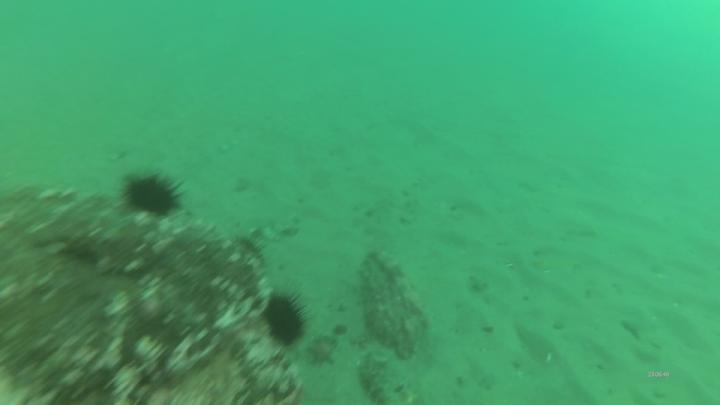echinus: (126, 173, 181, 218), (262, 293, 305, 344)
